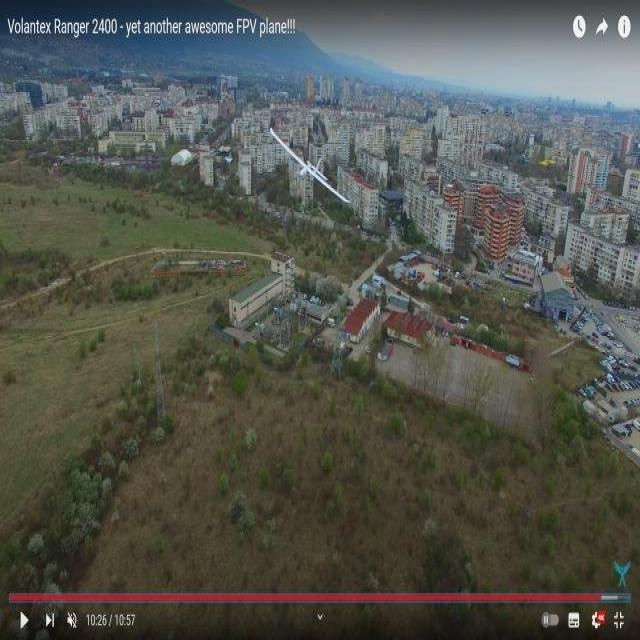Airplane: (267, 124, 352, 210)
